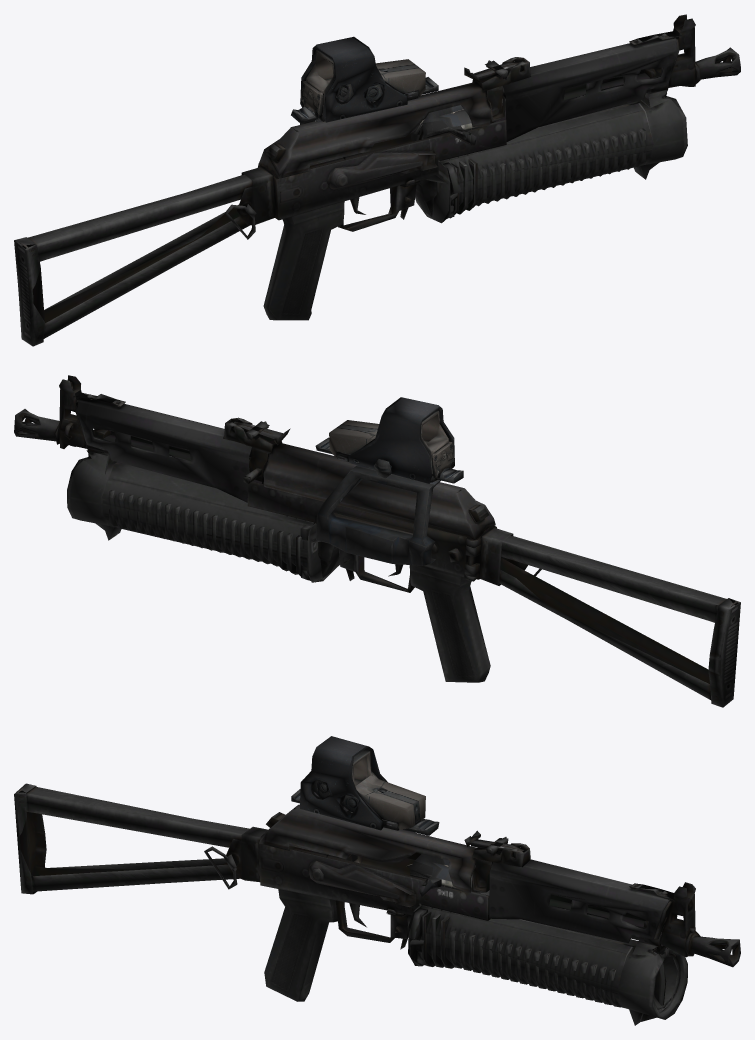
Rendered from Bizon.fbx.
3 views of the same model, one above another, from view 1: azimuth 30°, elevation 25°; view 2: azimuth 150°, elevation 25°; view 3: azimuth 330°, elevation 25° (orthographic).
Visible parts, largest first — view 1: bizon; view 2: bizon; view 3: bizon.
Boxes of the visible parts, x1,y1,x2,y2 form: bizon: (14, 14, 740, 346); bizon: (14, 375, 740, 707); bizon: (14, 736, 740, 1025).
Size of the model in its own units: 187 by 66.42 by 21.51.
1 material, 1 textured.
